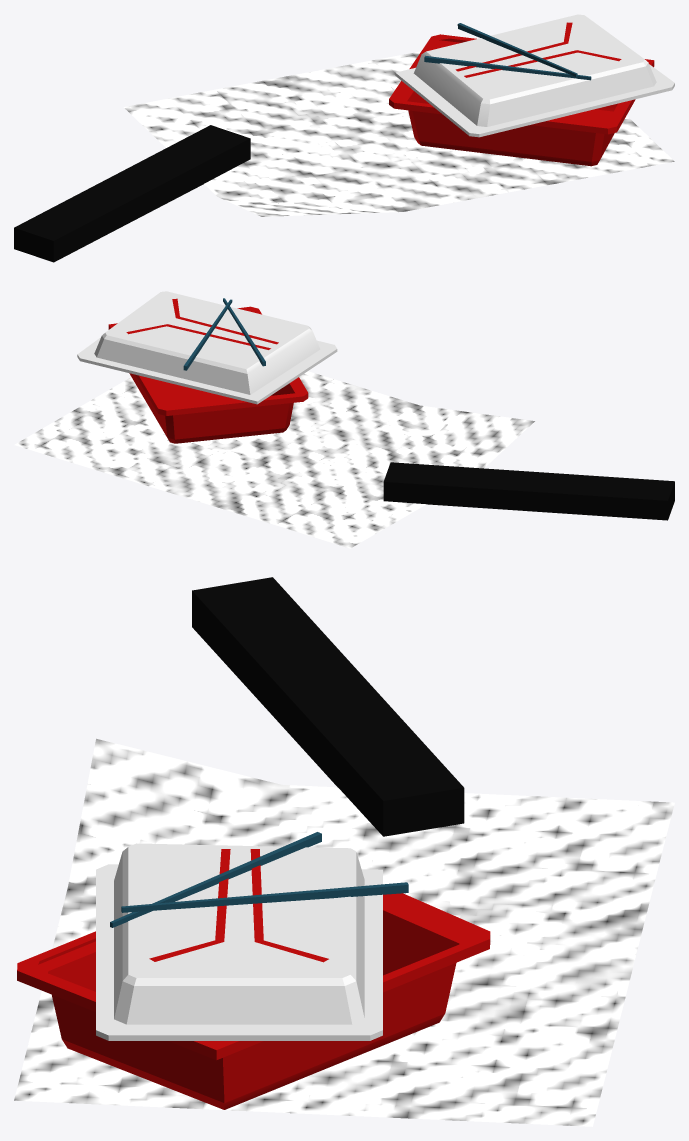
File: Sushi_Set_1.glb
The picture shows the model from 3 angles, top to bottom: view 1: azimuth 30°, elevation 25°; view 2: azimuth 150°, elevation 25°; view 3: azimuth 270°, elevation 25°; orthographic projection. The views are drawn at different scales.
Visible parts, largest first — view 1: sushiSet; view 2: sushiSet; view 3: sushiSet.
Part boxes in pixels (bbox=[...]): sushiSet: bbox=[14, 14, 674, 262]; sushiSet: bbox=[14, 291, 674, 548]; sushiSet: bbox=[14, 577, 674, 1126].
Bounding box in the file's own units: 0.6116 × 0.0759 × 0.3288.
1 material, 1 textured.
